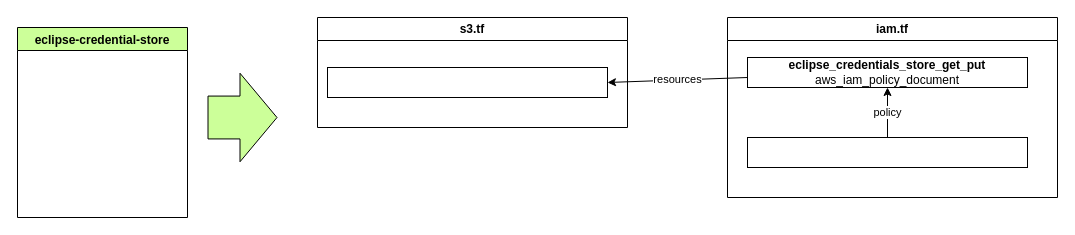
Some shapes in this 1075 by 235 pixel diagram are drawn without their labels. The centre of each missing label's shape, as x and y in pixels:
eclipse_credentials_store aws_s3_bucket: (467,82)
eclipse_credentials_store_get_put aws_iam_policy: (887,152)
